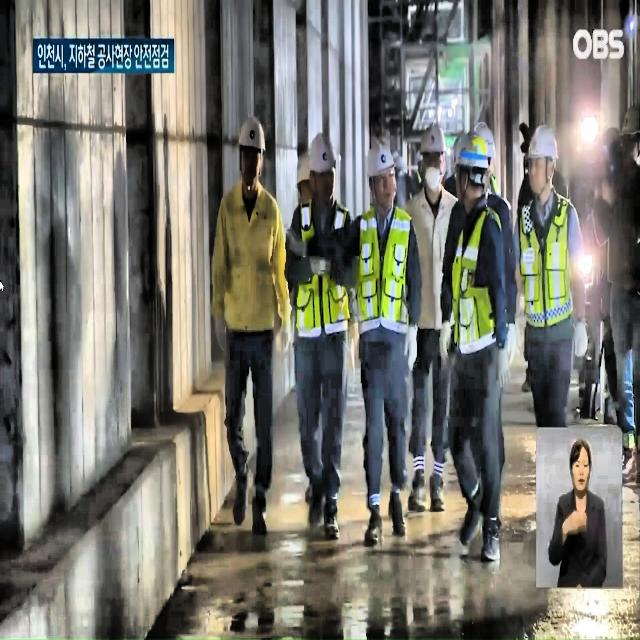safety_helmet: (449, 118, 501, 184), (298, 129, 348, 186), (236, 107, 278, 166), (528, 124, 574, 170), (360, 135, 400, 178), (416, 118, 452, 162)
safety_jacket: (286, 194, 360, 352), (438, 213, 504, 372), (352, 200, 415, 338), (520, 200, 585, 326)
